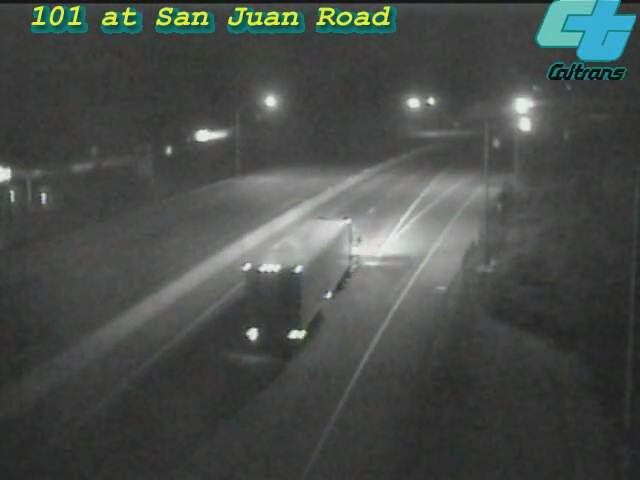vehicle: (258, 254, 338, 334), (499, 100, 549, 150), (496, 81, 546, 131)
